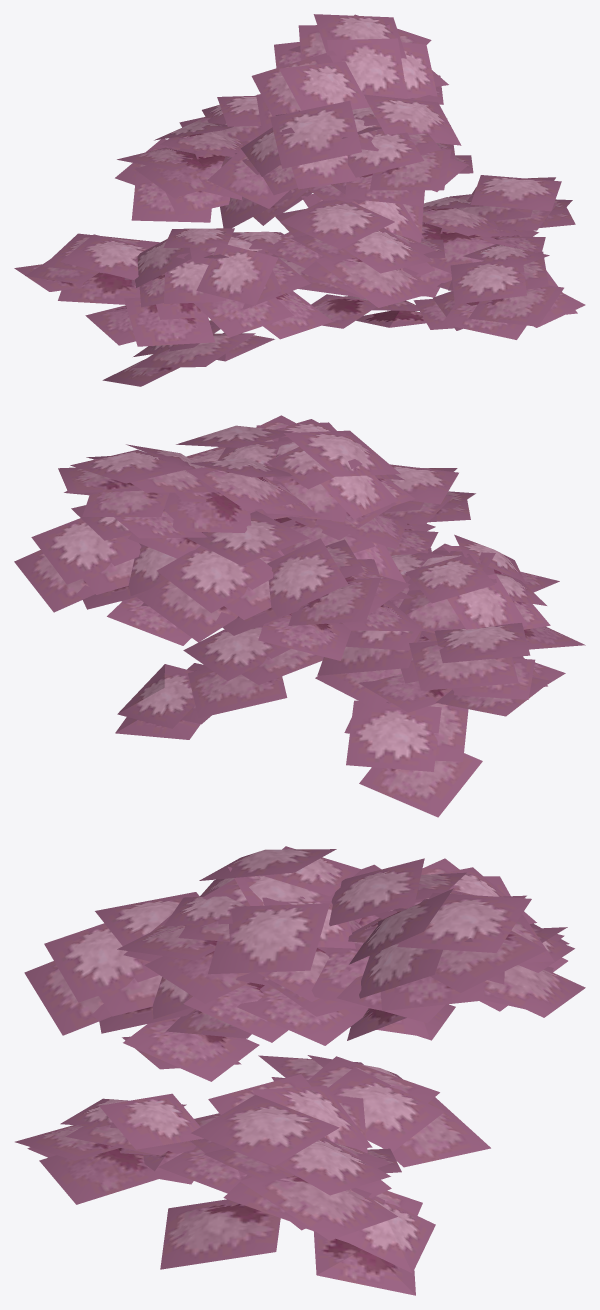
File: TreeLeaf.FBX
3 views of the same model, one above another, from view 1: azimuth 30°, elevation 25°; view 2: azimuth 150°, elevation 25°; view 3: azimuth 270°, elevation 25° (orthographic). The views are drawn at different scales.
Visible parts, largest first — view 1: Mesh_0097; view 2: Mesh_0097; view 3: Mesh_0097.
Part boxes in pixels (<box>): Mesh_0097: <box>14,14,585,386</box>; Mesh_0097: <box>14,415,585,817</box>; Mesh_0097: <box>15,846,585,1295</box>.
Bounding box in the file's own units: 32681 × 17062 × 24214.
